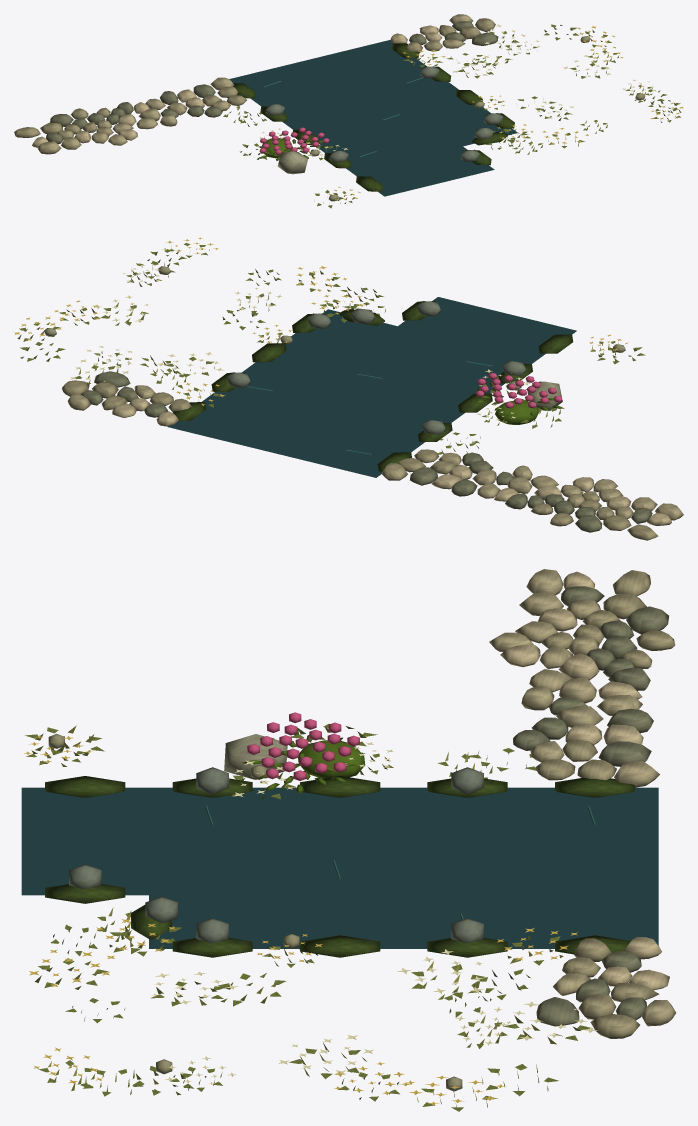
File: detail-patch-02-02.fbx
The picture shows the model from 3 angles, top to bottom: view 1: azimuth 30°, elevation 25°; view 2: azimuth 150°, elevation 25°; view 3: azimuth 270°, elevation 25°; orthographic projection. The views are drawn at different scales.
Parts seen in each view (by area): view 1: detail-patch-02-02__Water, detail-patch-02-02__Geometry; view 2: detail-patch-02-02__Water, detail-patch-02-02__Geometry; view 3: detail-patch-02-02__Water, detail-patch-02-02__Geometry.
Boxes of the visible parts, bbox=[...] form: detail-patch-02-02__Water: bbox=[229, 40, 517, 196]; detail-patch-02-02__Geometry: bbox=[14, 14, 683, 208]; detail-patch-02-02__Water: bbox=[168, 297, 576, 477]; detail-patch-02-02__Geometry: bbox=[14, 237, 683, 540]; detail-patch-02-02__Water: bbox=[21, 787, 658, 948]; detail-patch-02-02__Geometry: bbox=[24, 569, 675, 1111].
Size of the model in its own units: 9.98 by 0.4153 by 5.14.
